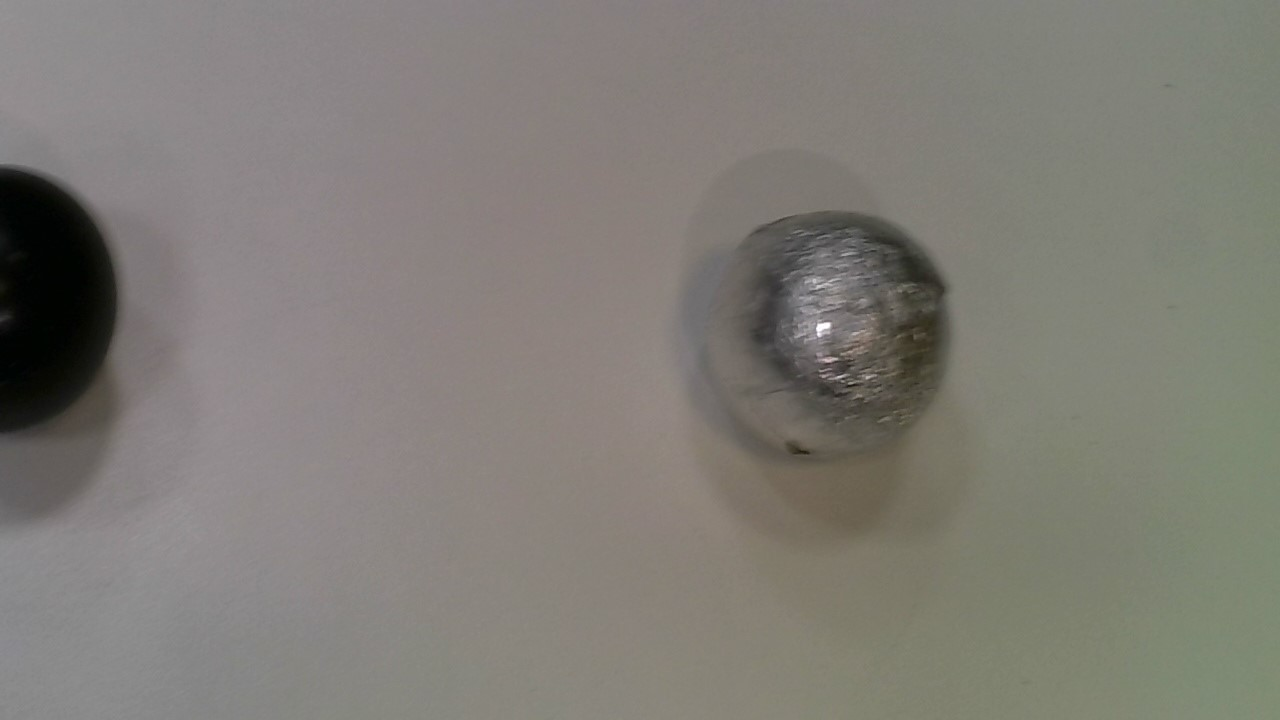silver_ball: (689, 203, 964, 467)
